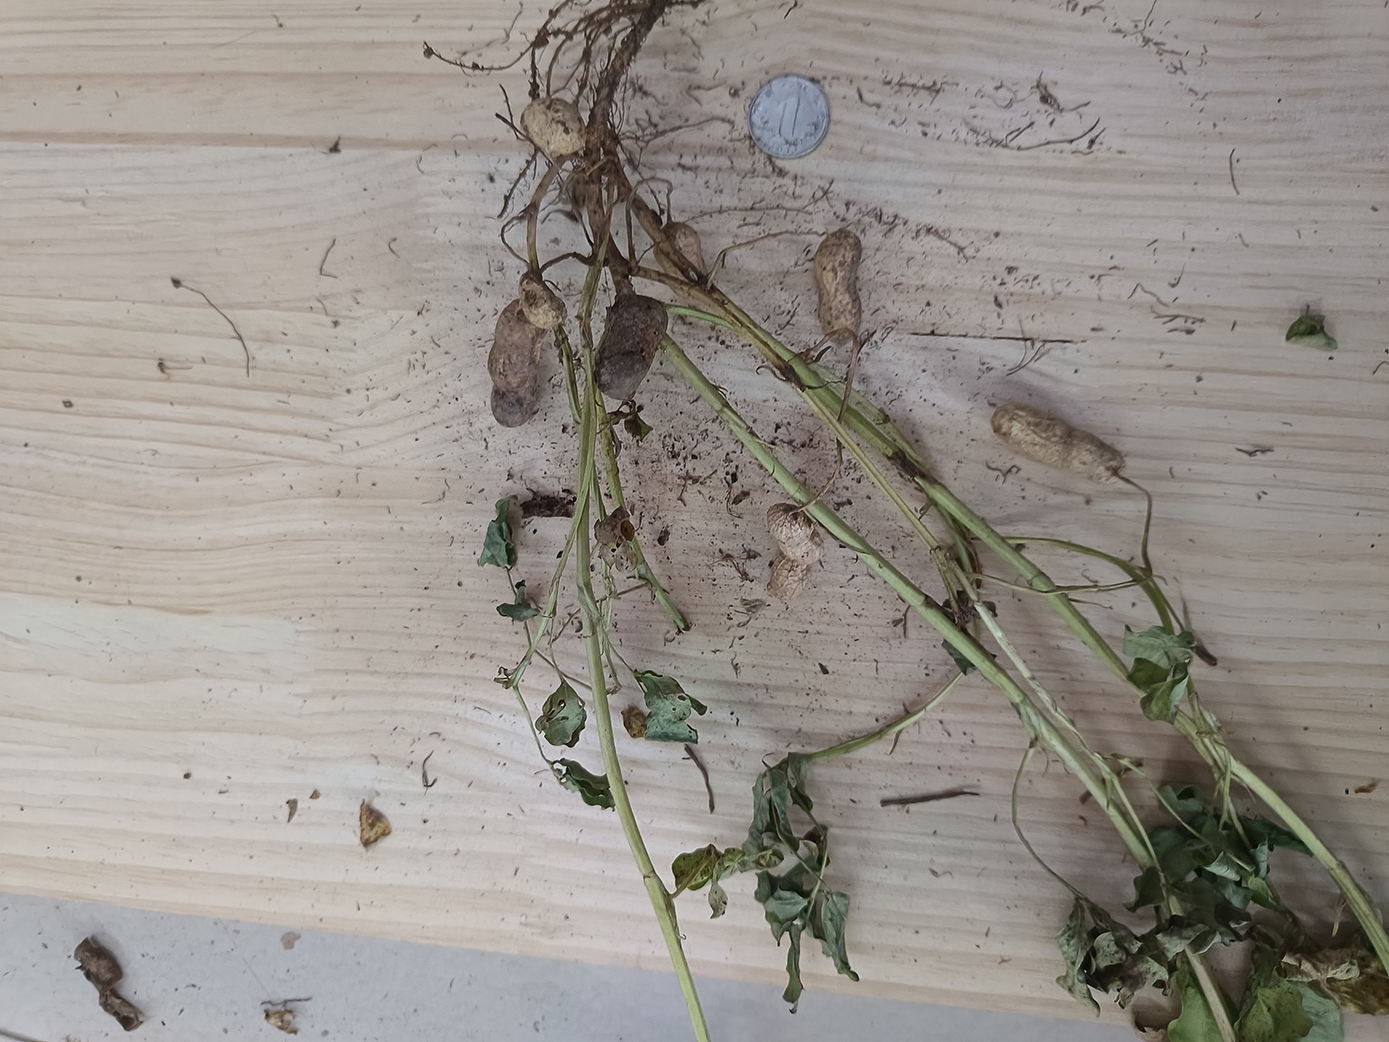h: (991, 400, 1126, 484), (812, 229, 864, 345), (765, 502, 824, 602), (655, 221, 707, 301), (522, 99, 588, 157), (519, 273, 567, 329)
l: (594, 293, 669, 403), (488, 299, 541, 425)
